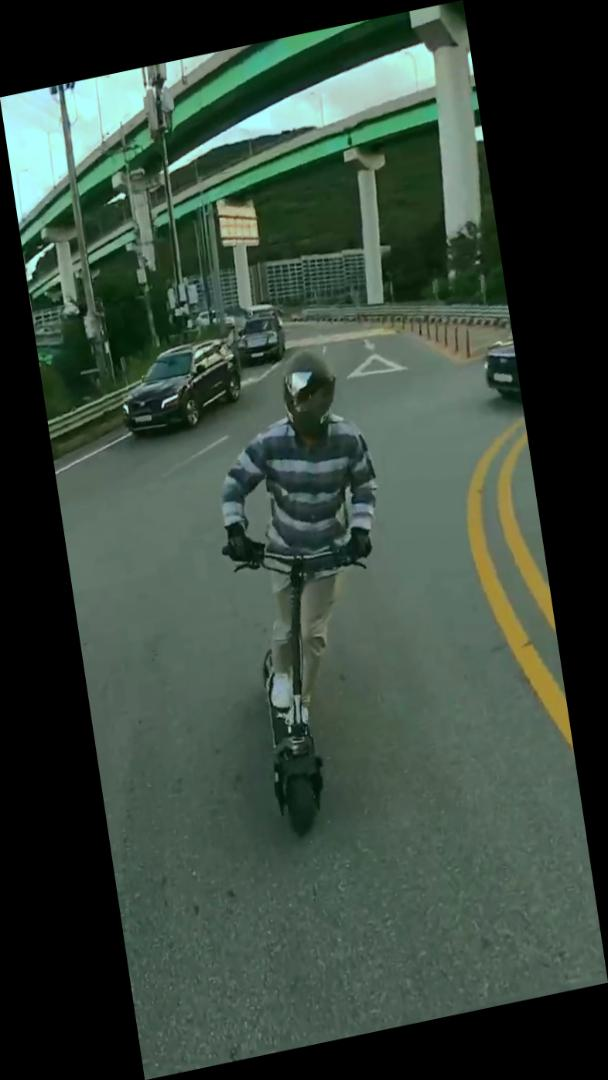helmet: (191, 333, 428, 849)
